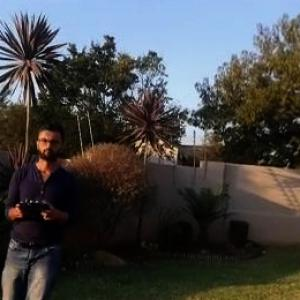follow: (0, 115, 83, 299)
